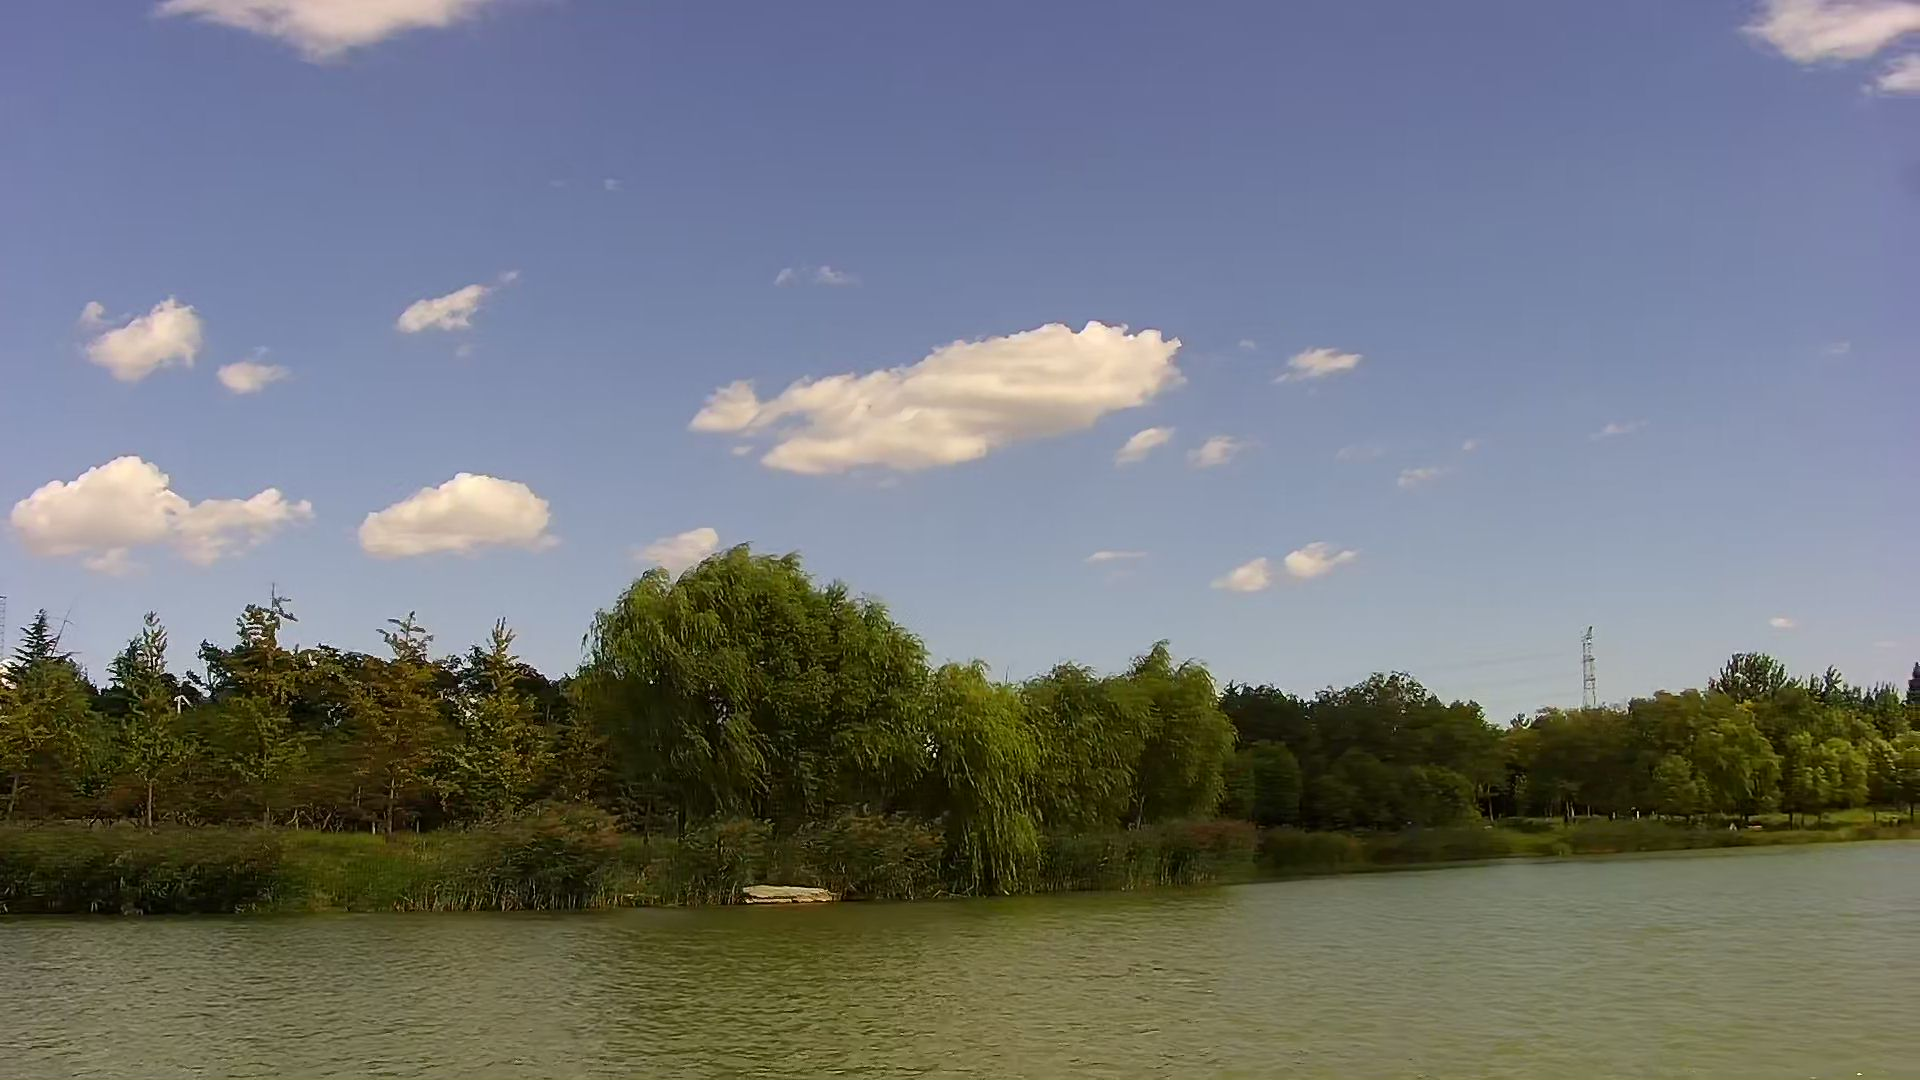rock: (738, 878, 837, 905)
